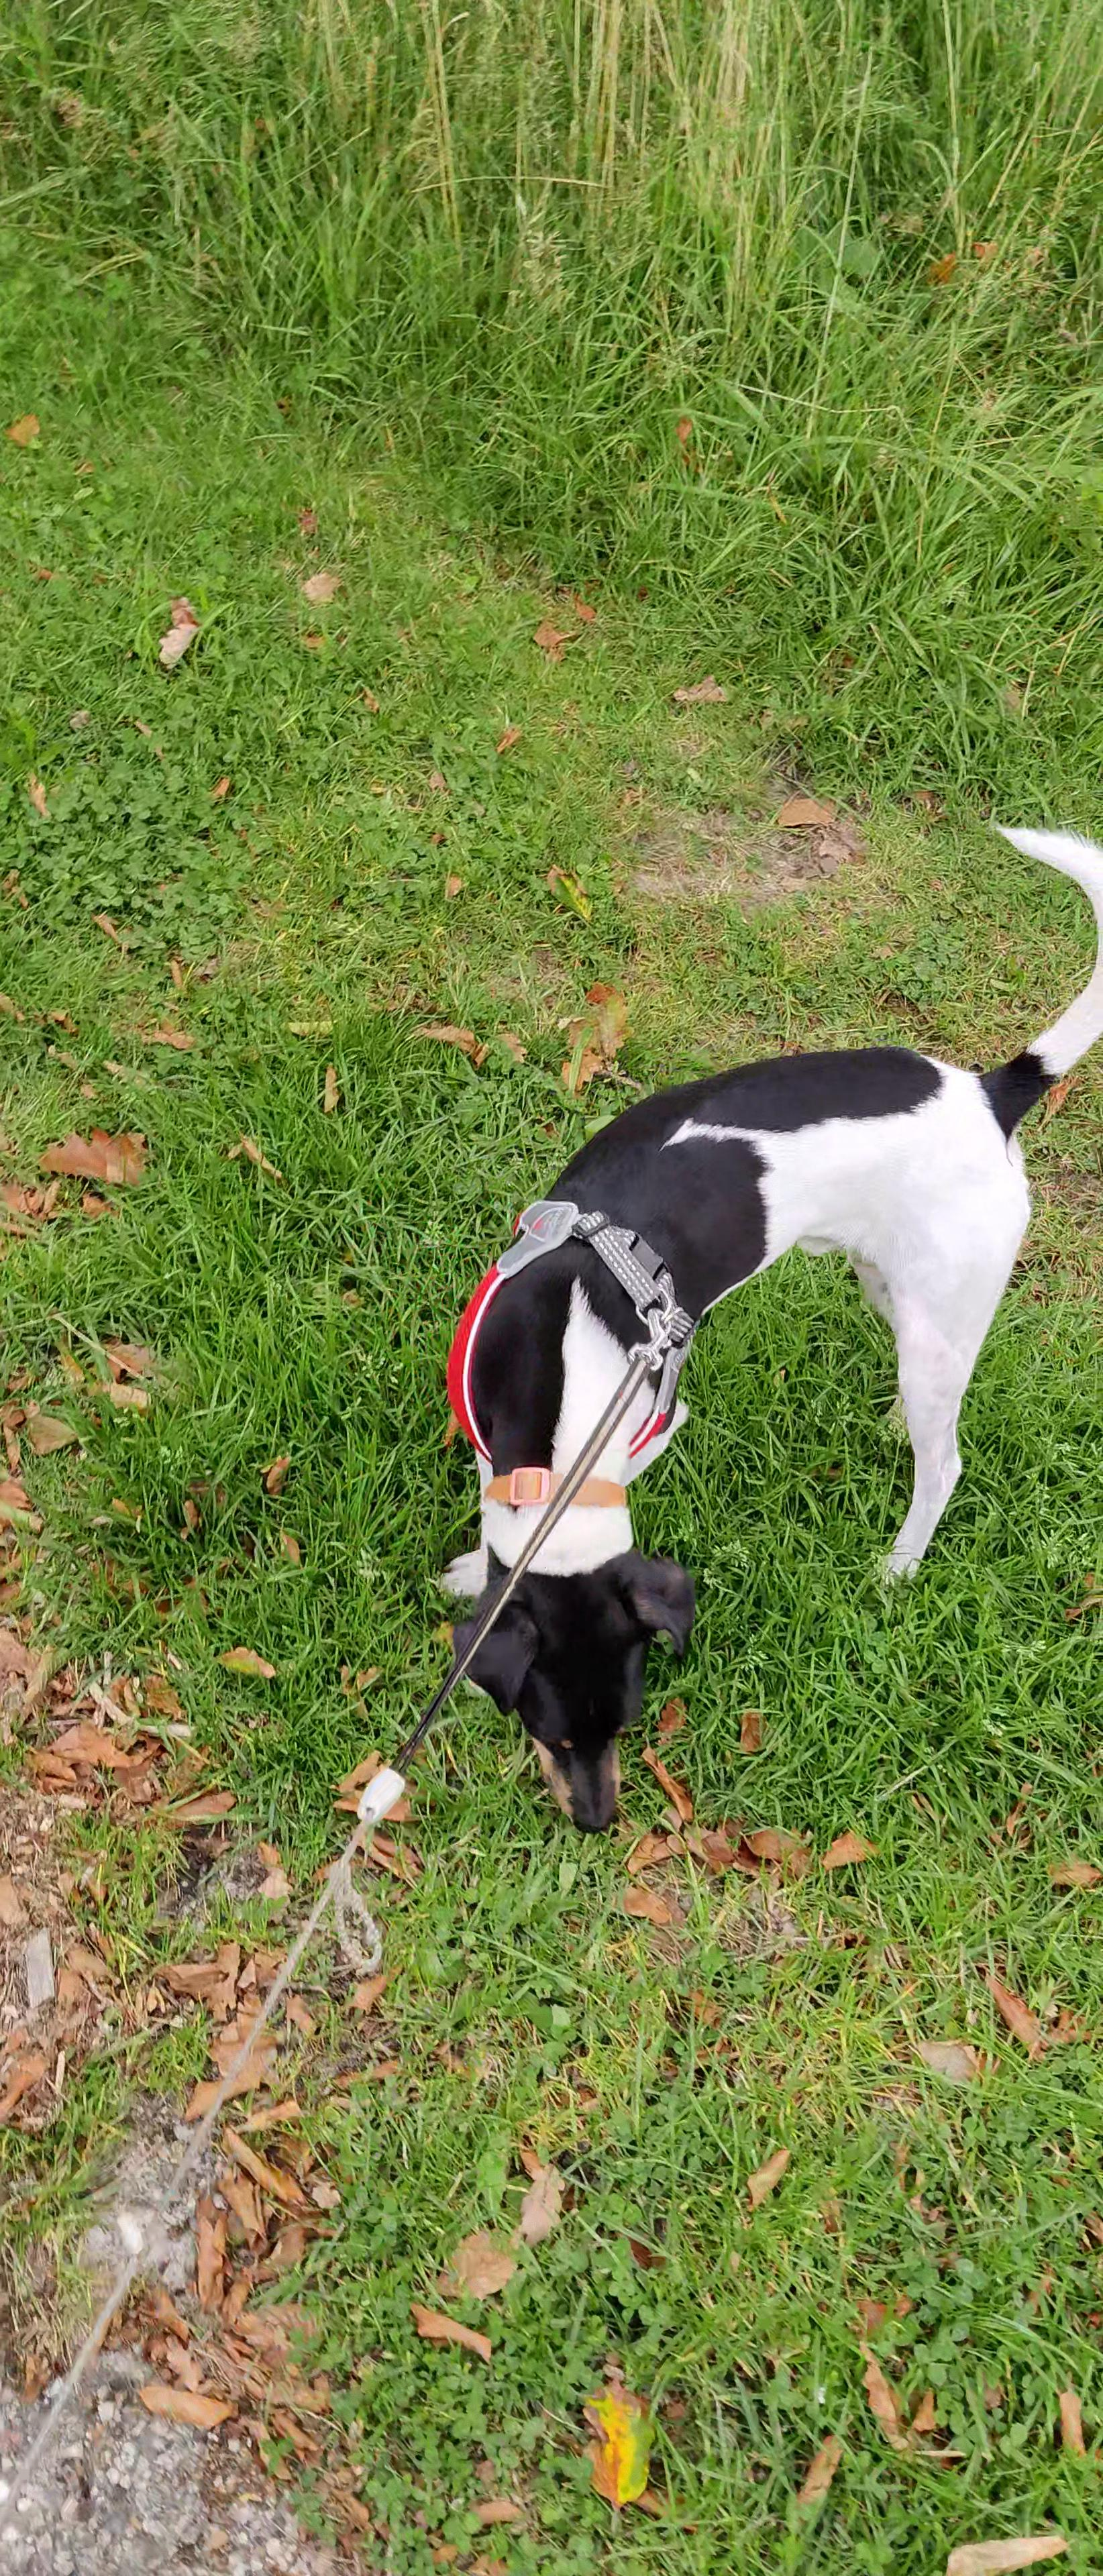Dog: (432, 820, 1103, 1838)
